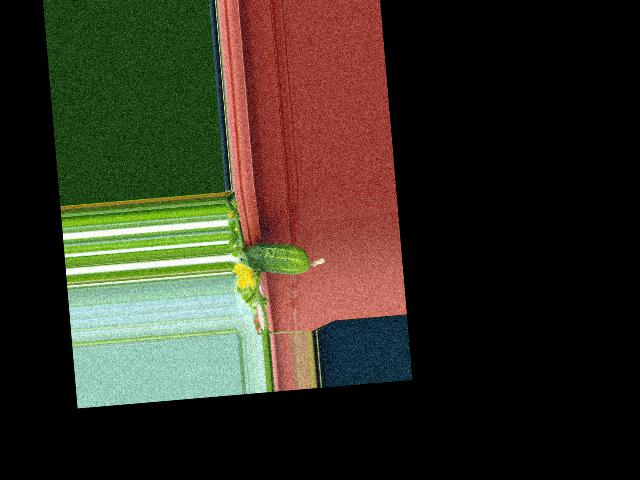cucumber: (245, 238, 326, 278)
